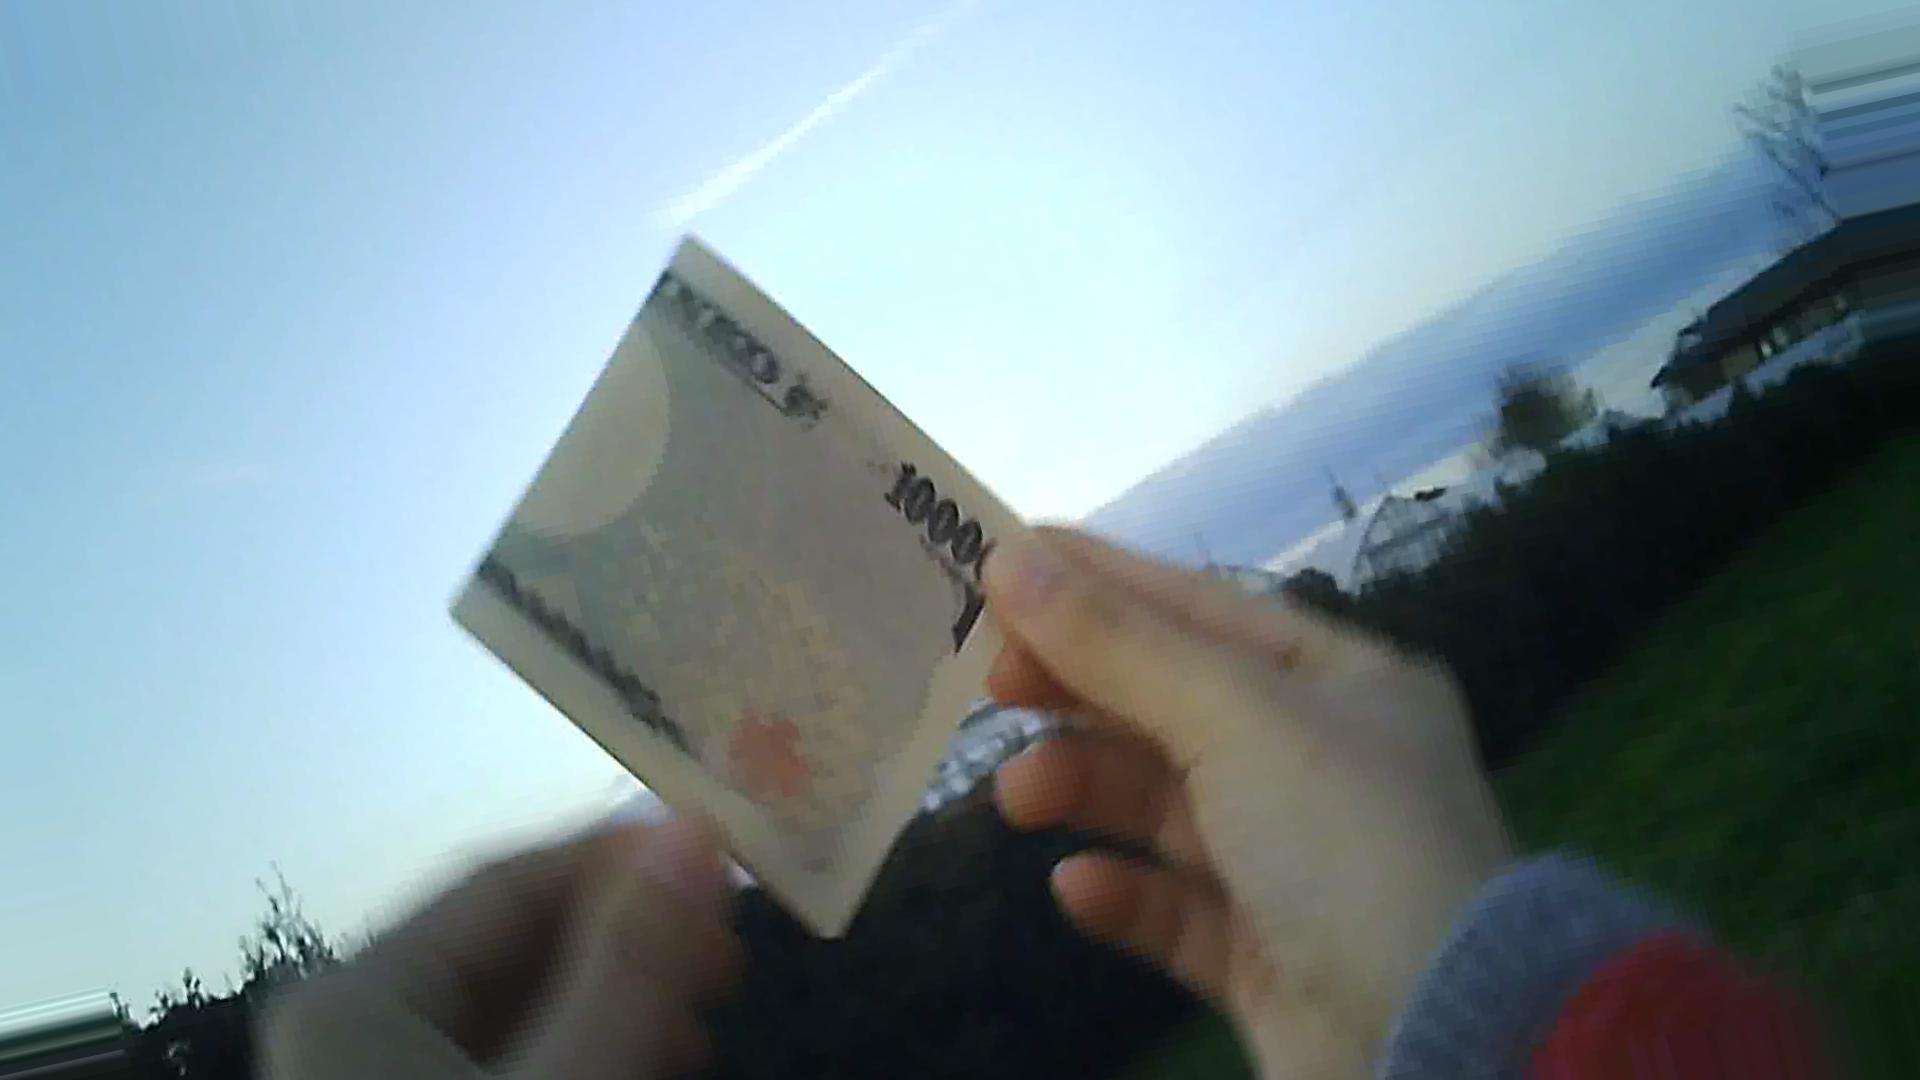10,000 Yen: (429, 211, 1040, 930)
